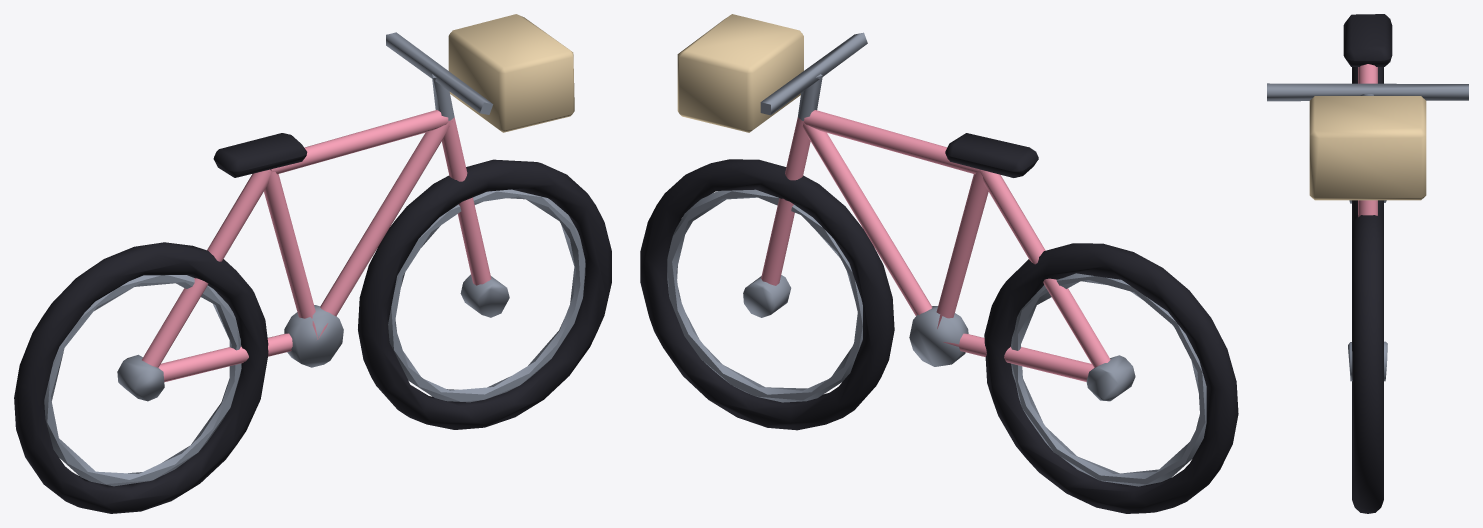
File: bicycle.glb
3 views of the same model, side by side, from view 1: azimuth 30°, elevation 25°; view 2: azimuth 150°, elevation 25°; view 3: azimuth 270°, elevation 25° (orthographic). The views are drawn at different scales.
Visible parts, largest first — view 1: bicycle; view 2: bicycle; view 3: bicycle.
Boxes of the visible parts, x1=… form: bicycle: x1=14, y1=14, x2=611, y2=513; bicycle: x1=640, y1=14, x2=1238, y2=513; bicycle: x1=1267, y1=14, x2=1468, y2=513.
Bounding box in the file's own units: 1.79 × 1.1 × 0.5.
1 material, 1 textured.
